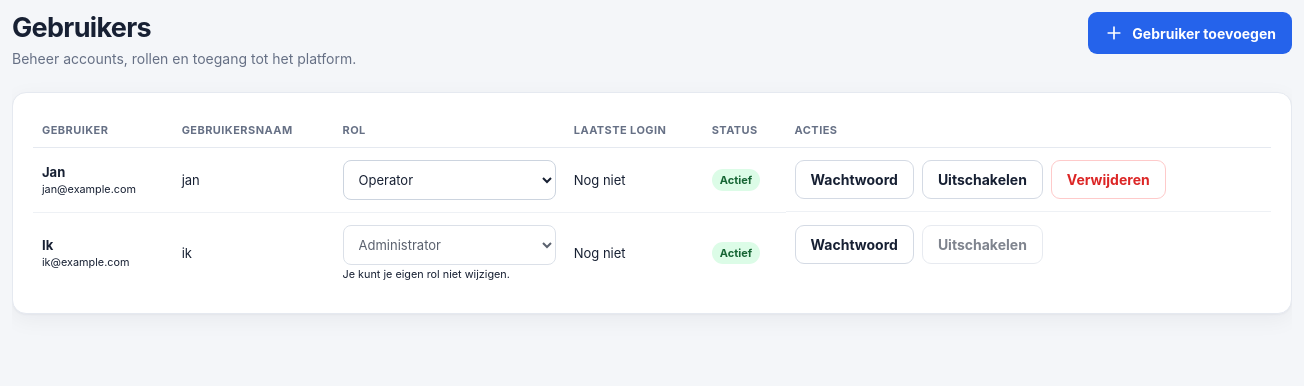
rollen en wachtwoord in de interface › wijzigt de rol van een gebruiker via de rolkeuze
Expected: the text "Jan" is shown, [42, 164, 65, 180]
Select "Administrator" in the dropdown named "Rol van Jan" at (449, 180), box [342, 160, 556, 200]
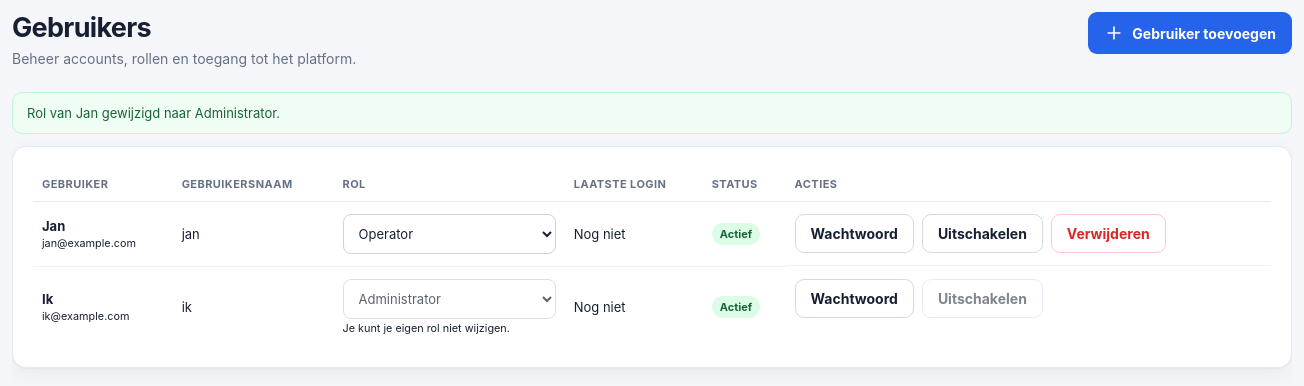
Expected: the text "Rol van Jan gewijzigd naar Administrator." is shown, [12, 92, 1292, 134]
